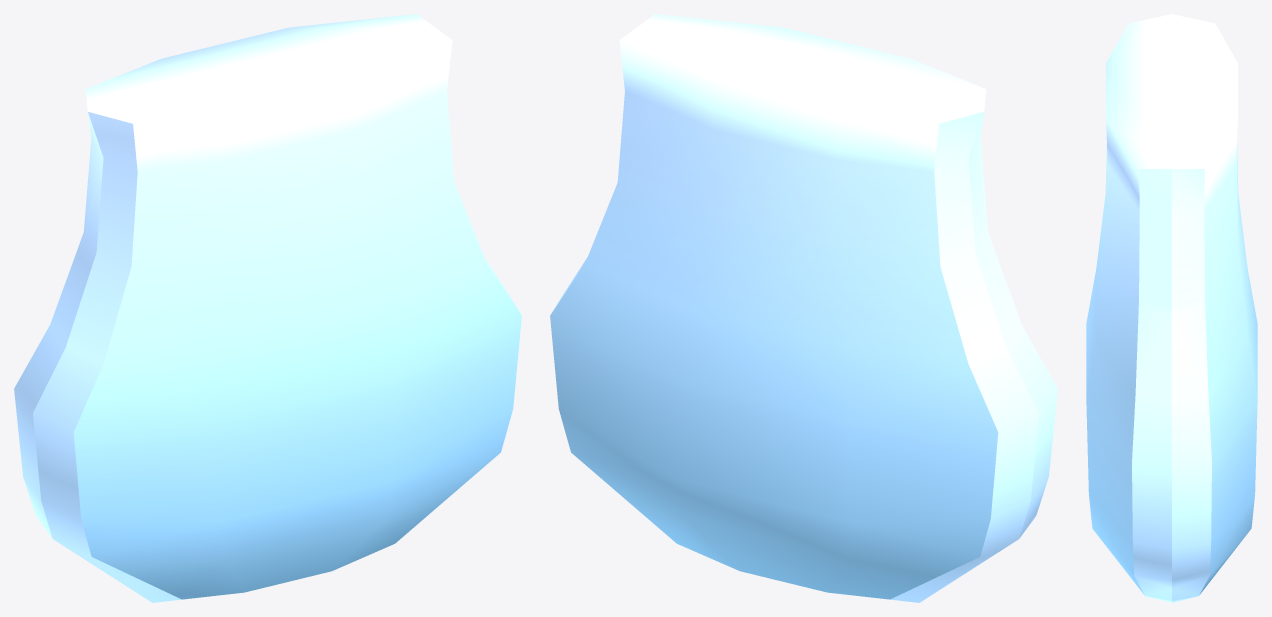
Rendered from steel_pommel_082.glb.
3 views of the same model, side by side, from view 1: azimuth 30°, elevation 25°; view 2: azimuth 150°, elevation 25°; view 3: azimuth 270°, elevation 25° (orthographic). The views are drawn at different scales.
Visible parts, largest first — view 1: steel_pommel_082; view 2: steel_pommel_082; view 3: steel_pommel_082.
Part boxes in pixels (left/top/right/bottom): steel_pommel_082: left=14, top=14, right=521, bottom=602; steel_pommel_082: left=550, top=14, right=1057, bottom=602; steel_pommel_082: left=1086, top=14, right=1257, bottom=602.
Bounding box in the file's own units: 2.2 × 2.23 × 0.7438.
Materials: 1 (1 with a texture image).
